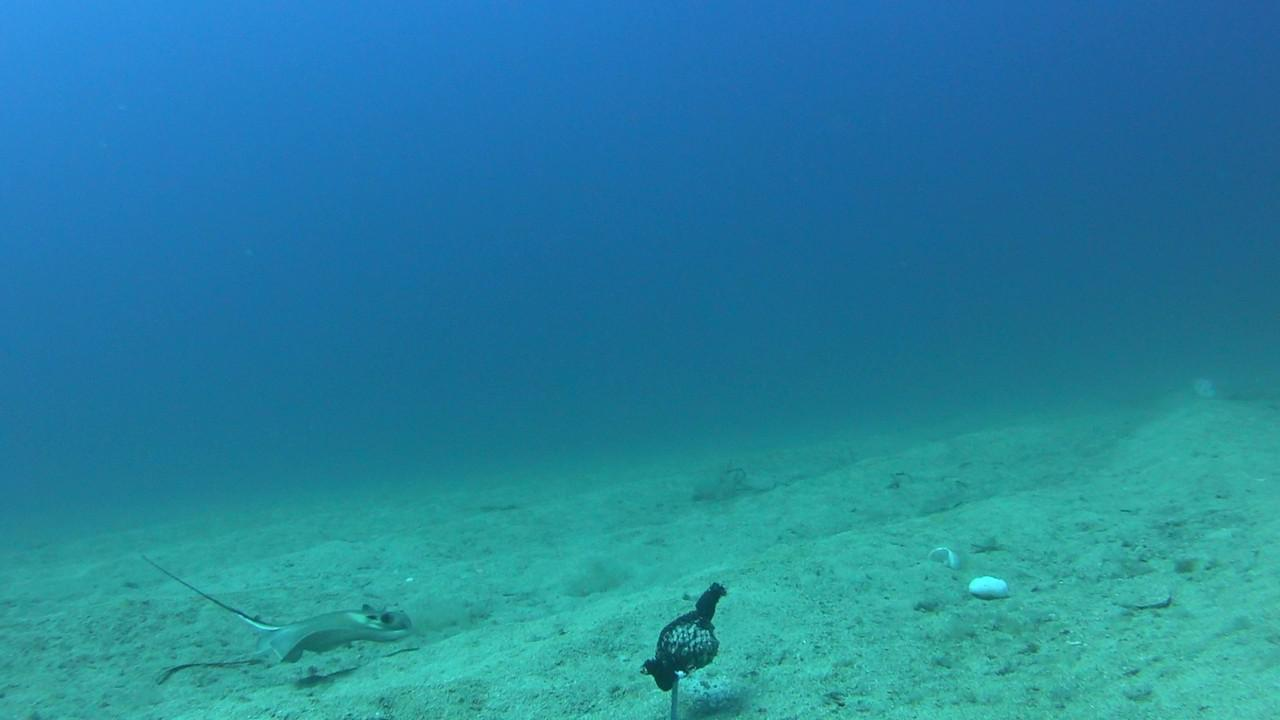myliobatis: (125, 530, 418, 674)
